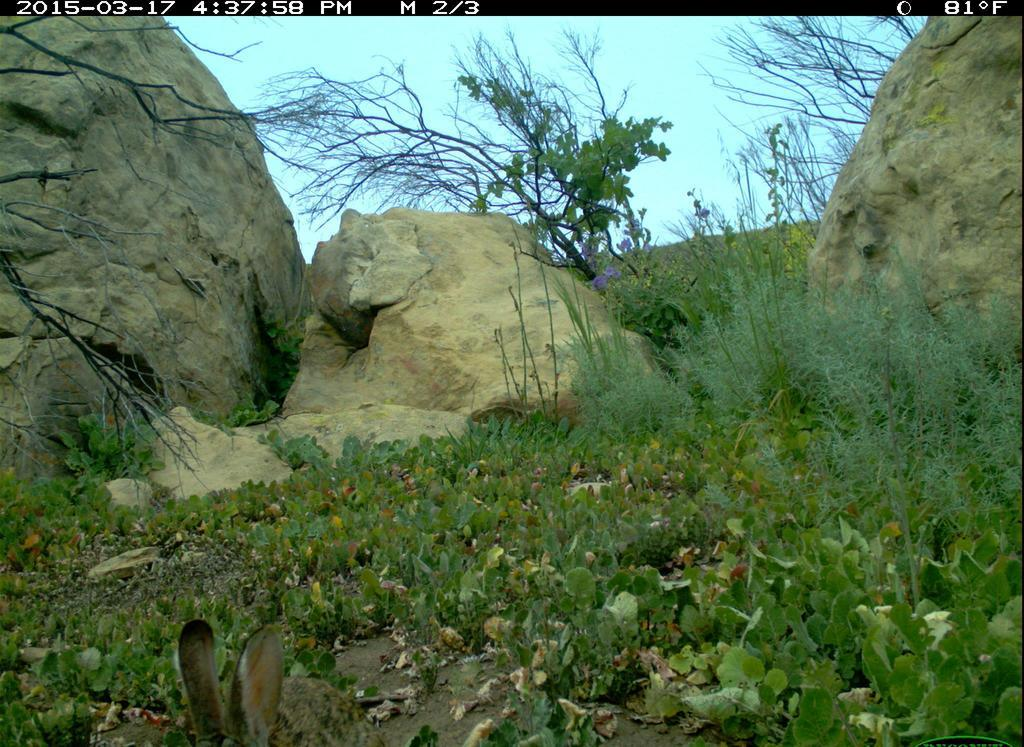rabbit: (82, 606, 315, 733)
